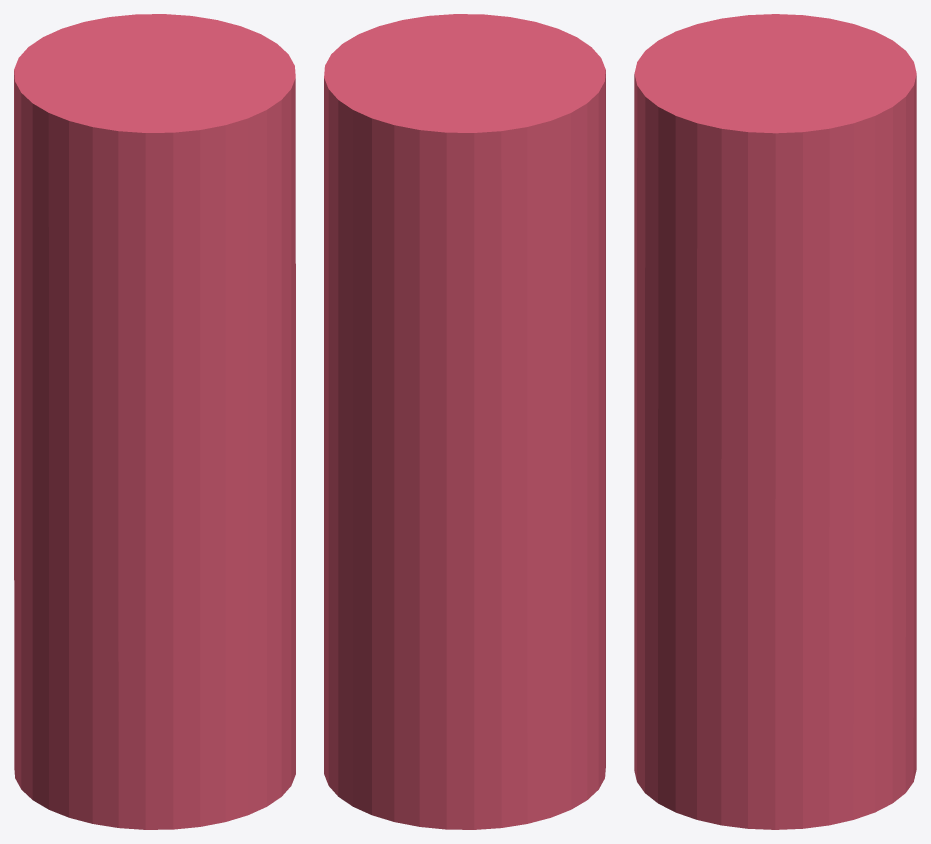
File: ornament_tun.fbx
3 renders of one model, left to right at view 1: azimuth 30°, elevation 25°; view 2: azimuth 150°, elevation 25°; view 3: azimuth 270°, elevation 25°, orthographic.
Visible parts, largest first — view 1: Cylinder; view 2: Cylinder; view 3: Cylinder.
Part boxes in pixels (x1,y1,x2,y2): Cylinder: (14, 14, 295, 829); Cylinder: (324, 14, 605, 829); Cylinder: (634, 14, 916, 829).
Bounding box in the file's own units: 25.53 × 69.54 × 25.55.
